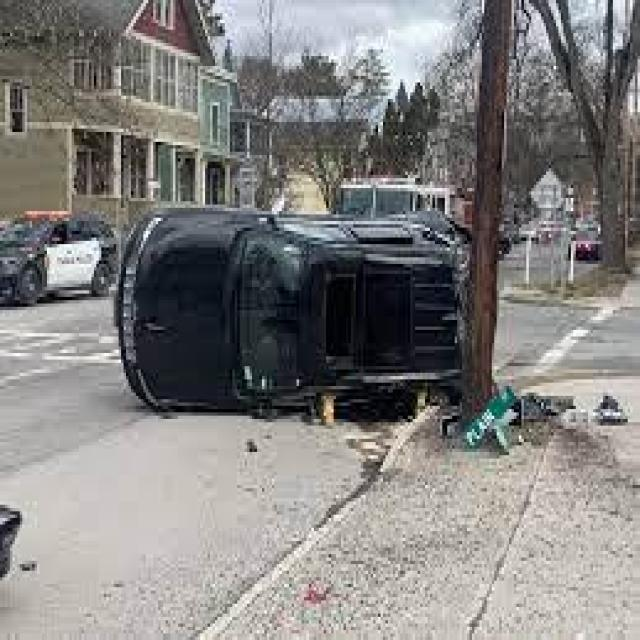severe: (110, 190, 481, 427)
